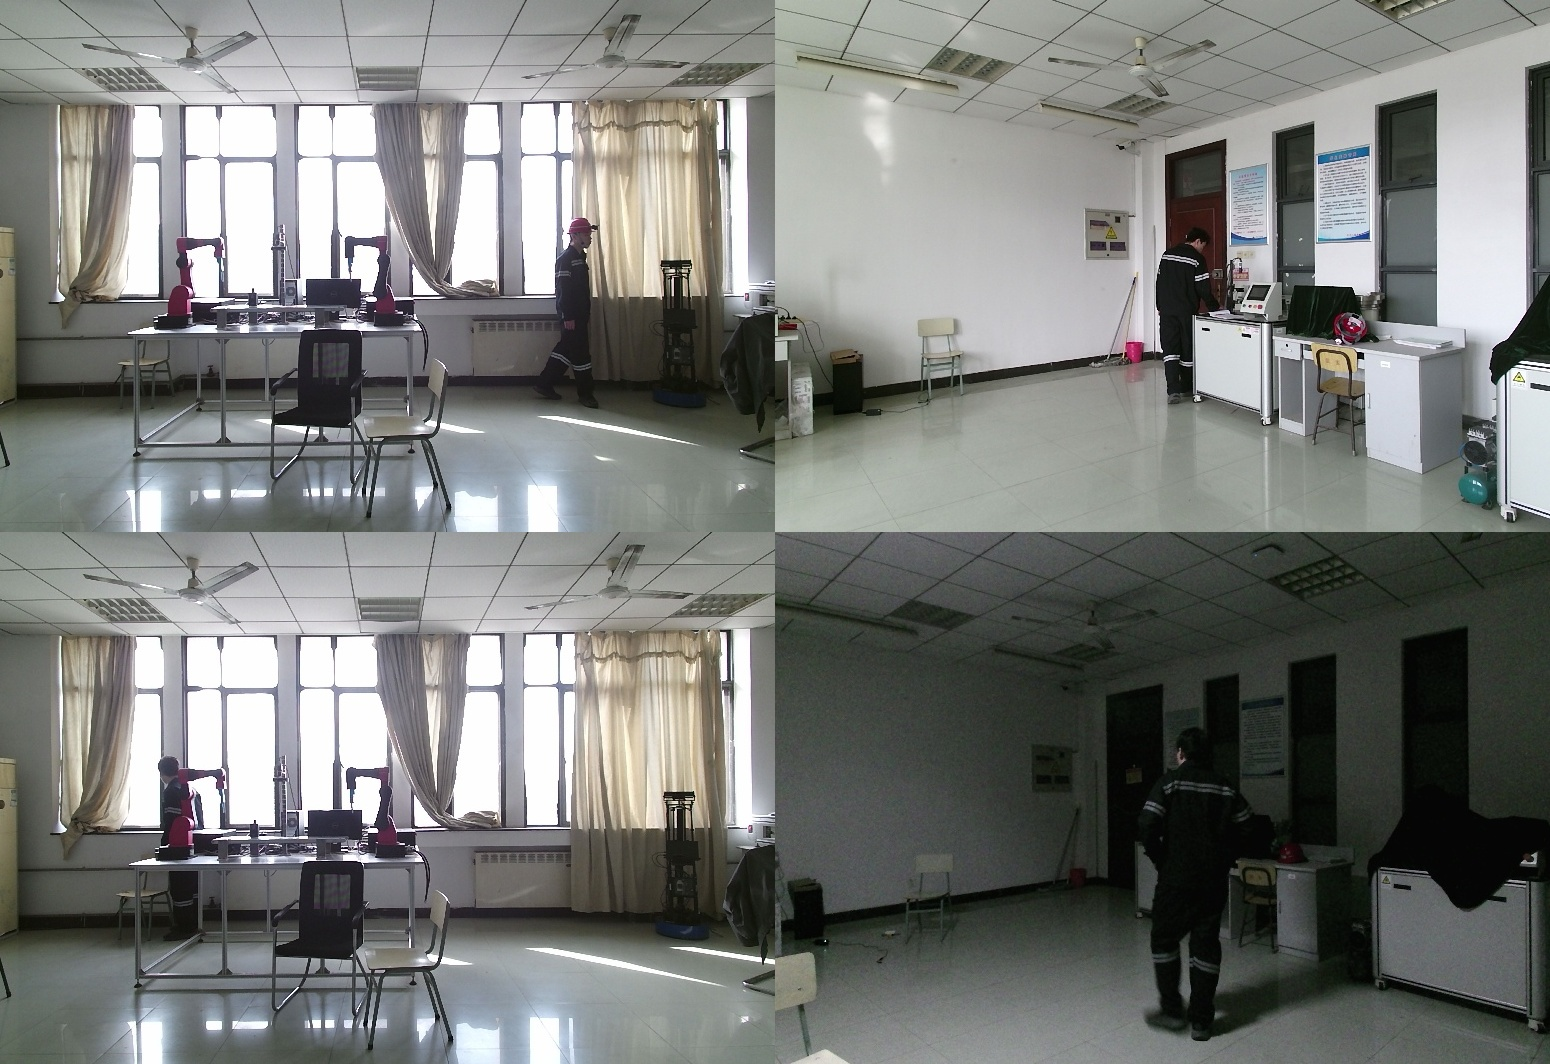person: (1141, 725, 1278, 1064), (538, 217, 604, 411), (1156, 235, 1223, 409), (155, 754, 208, 946)
